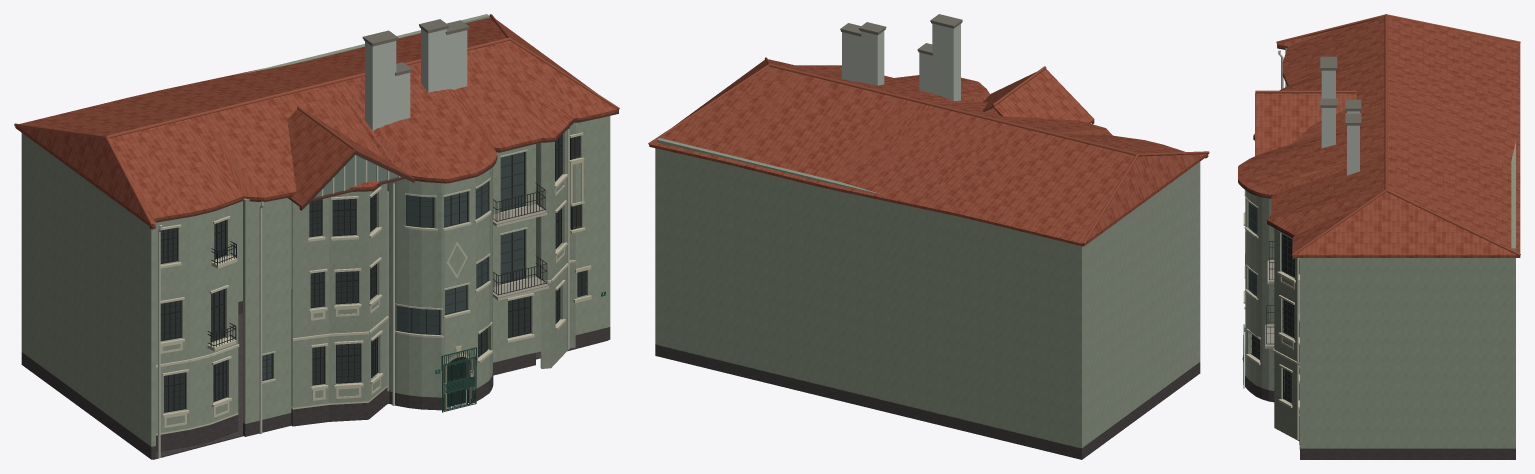
Rendered from xuhui-yanqing-2-green-street-residence-web.glb.
3 views of the same model, side by side, from view 1: azimuth 30°, elevation 25°; view 2: azimuth 150°, elevation 25°; view 3: azimuth 270°, elevation 25° (orthographic). The views are drawn at different scales.
Visible parts, largest first — view 1: 延庆路2号浅绿住宅与弧形楼梯间; view 2: 延庆路2号浅绿住宅与弧形楼梯间; view 3: 延庆路2号浅绿住宅与弧形楼梯间.
Part boxes in pixels (x1,y1,x2,y2): 延庆路2号浅绿住宅与弧形楼梯间: [14, 14, 619, 459]; 延庆路2号浅绿住宅与弧形楼梯间: [648, 14, 1209, 459]; 延庆路2号浅绿住宅与弧形楼梯间: [1238, 14, 1520, 459].
Bounding box in the file's own units: 21.54 × 14.84 × 12.4.
27 materials, 3 textured.
